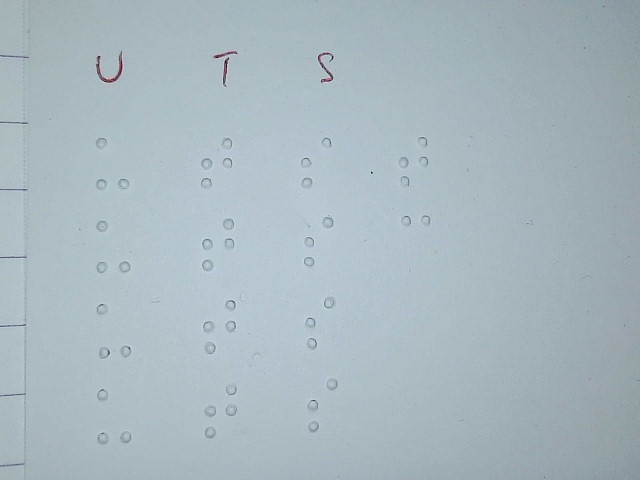S: (306, 376, 339, 432), (299, 136, 333, 188), (301, 215, 335, 267), (303, 295, 335, 349)
T: (202, 298, 238, 355), (202, 382, 238, 439), (200, 217, 236, 271), (200, 136, 234, 188)
U: (96, 302, 132, 359), (96, 387, 132, 444), (95, 136, 130, 191), (96, 219, 131, 274)
